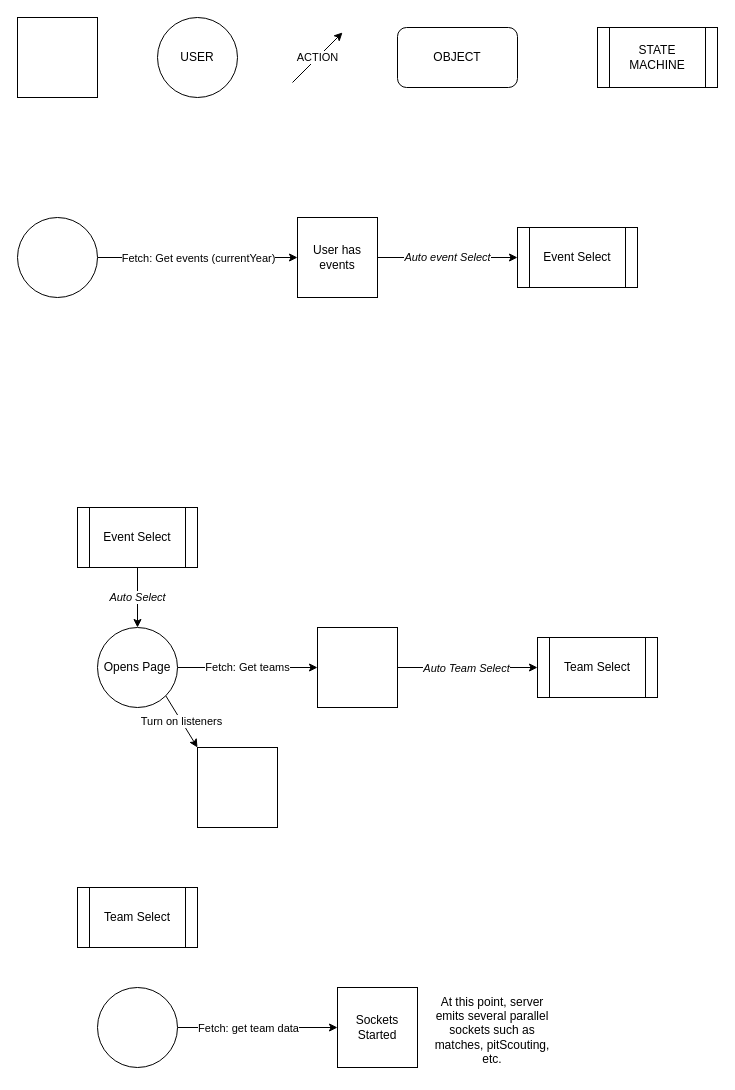
Some shapes in this 735 by 1090 pixel diagram are drawn without their labels. Each missing label, with the centre of its shape:
"Listeners turned on" belongs at point 237,787.
"Opens Site" belongs at point 57,257.
"Selects Team" belongs at point 137,1027.
"STATE" belongs at point 57,57.
"Team Dropdown Populated" belongs at point 357,667.
